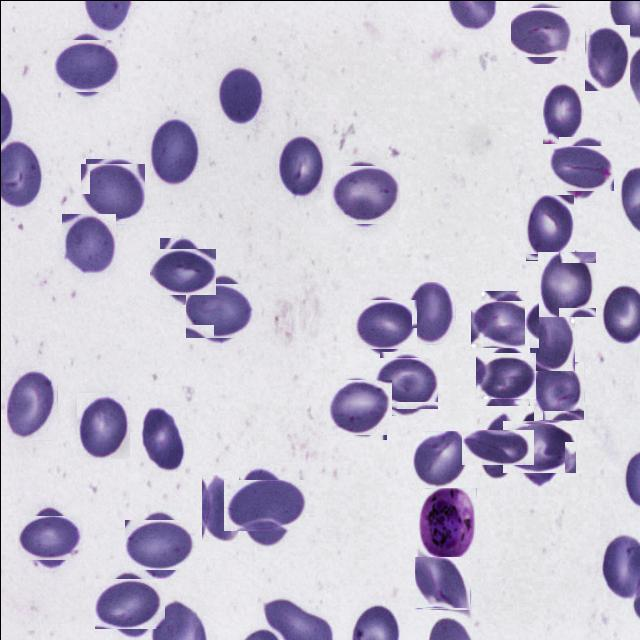difficult: (417, 487, 476, 558)
red blood cell: (230, 471, 298, 538), (333, 162, 397, 226), (507, 414, 570, 478), (537, 251, 596, 317), (188, 280, 250, 342), (6, 368, 57, 440), (129, 514, 190, 574), (99, 572, 160, 632), (328, 376, 388, 437), (82, 160, 142, 220), (56, 35, 116, 94), (149, 116, 200, 185), (76, 392, 129, 458), (61, 213, 115, 276), (354, 294, 412, 352), (376, 354, 434, 412), (475, 295, 533, 353), (524, 305, 574, 370), (525, 194, 574, 260), (154, 242, 210, 298), (412, 430, 467, 487), (201, 474, 247, 541), (514, 4, 570, 59), (138, 404, 184, 470), (22, 510, 77, 565), (554, 140, 608, 196), (414, 556, 470, 610), (533, 361, 584, 420), (276, 134, 322, 199), (584, 24, 629, 90), (408, 281, 455, 344), (470, 420, 524, 474), (478, 348, 532, 402), (216, 65, 262, 124), (542, 81, 582, 143)
